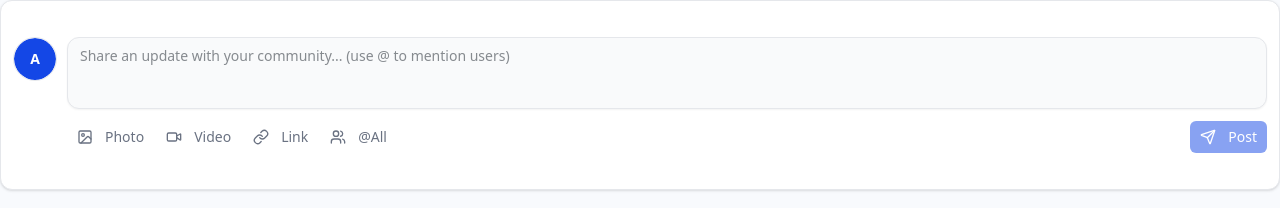
Test: PostComposer › submitting › enables the Post button when text is typed
Step 1. Type "Hello" into the text box with placeholder "Share an update" → (667, 73), box 67,37 -> 1267,109
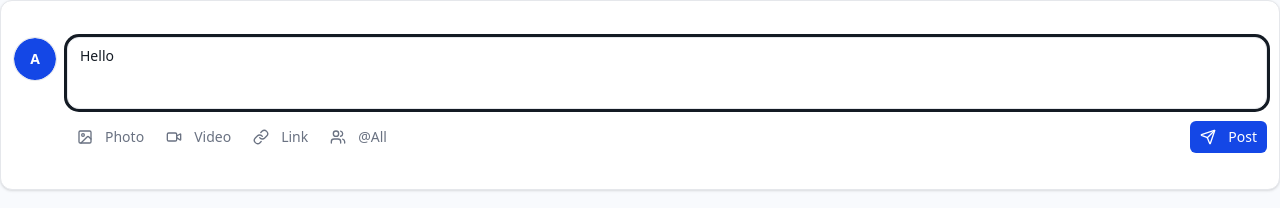
Result: the button "Post" is enabled at 1190,121 -> 1267,153
